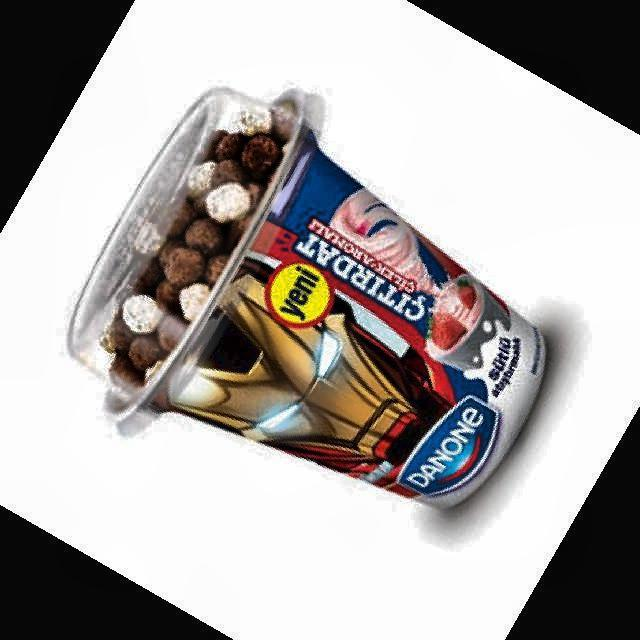plastic: (69, 90, 545, 507)
